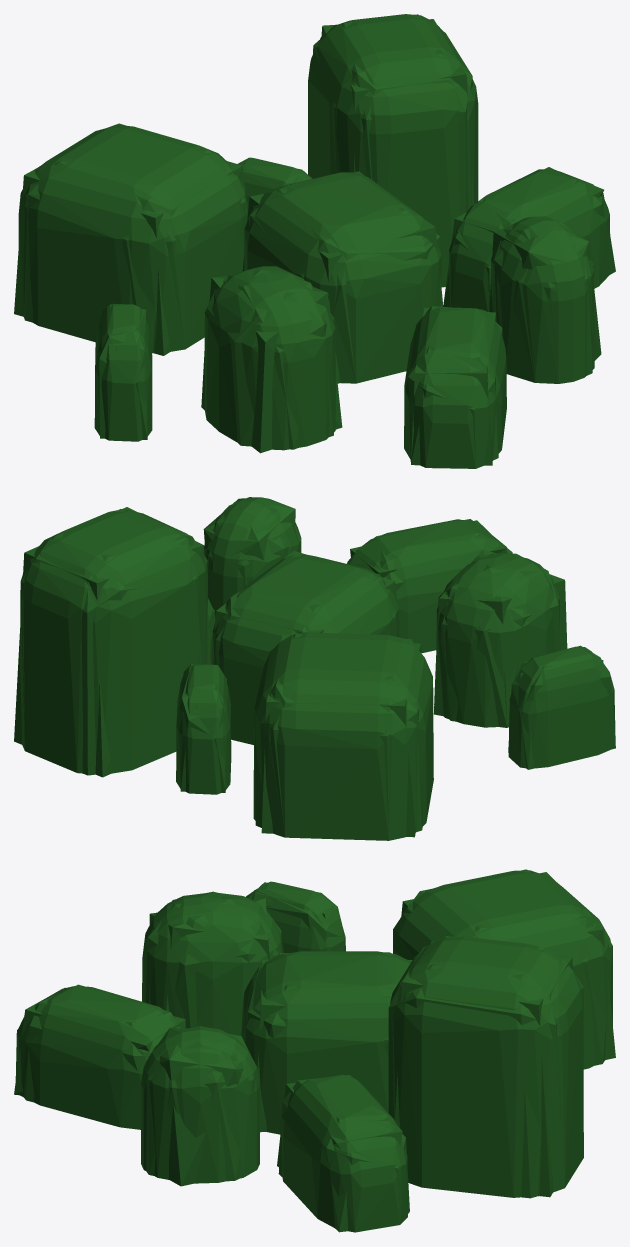
Rendered from grassLOD.fbx.
The picture shows the model from 3 angles, top to bottom: view 1: azimuth 30°, elevation 25°; view 2: azimuth 150°, elevation 25°; view 3: azimuth 270°, elevation 25°; orthographic projection. The views are drawn at different scales.
Visible parts, largest first — view 1: Cube.001, Cube, Cube.002; view 2: Cube.001, Cube, Cube.002; view 3: Cube.001, Cube, Cube.002.
Part boxes in pixels (x1=…): Cube.001: x1=18, y1=14, x2=610, y2=468; Cube: x1=24, y1=14, x2=615, y2=465; Cube.002: x1=14, y1=19, x2=603, y2=465; Cube.001: x1=20, y1=497, x2=615, y2=840; Cube: x1=20, y1=501, x2=615, y2=838; Cube.002: x1=14, y1=497, x2=603, y2=837; Cube.001: x1=15, y1=870, x2=612, y2=1232; Cube: x1=15, y1=869, x2=612, y2=1232; Cube.002: x1=14, y1=872, x2=615, y2=1197.
Size of the model in its own units: 152 by 56.03 by 147.
